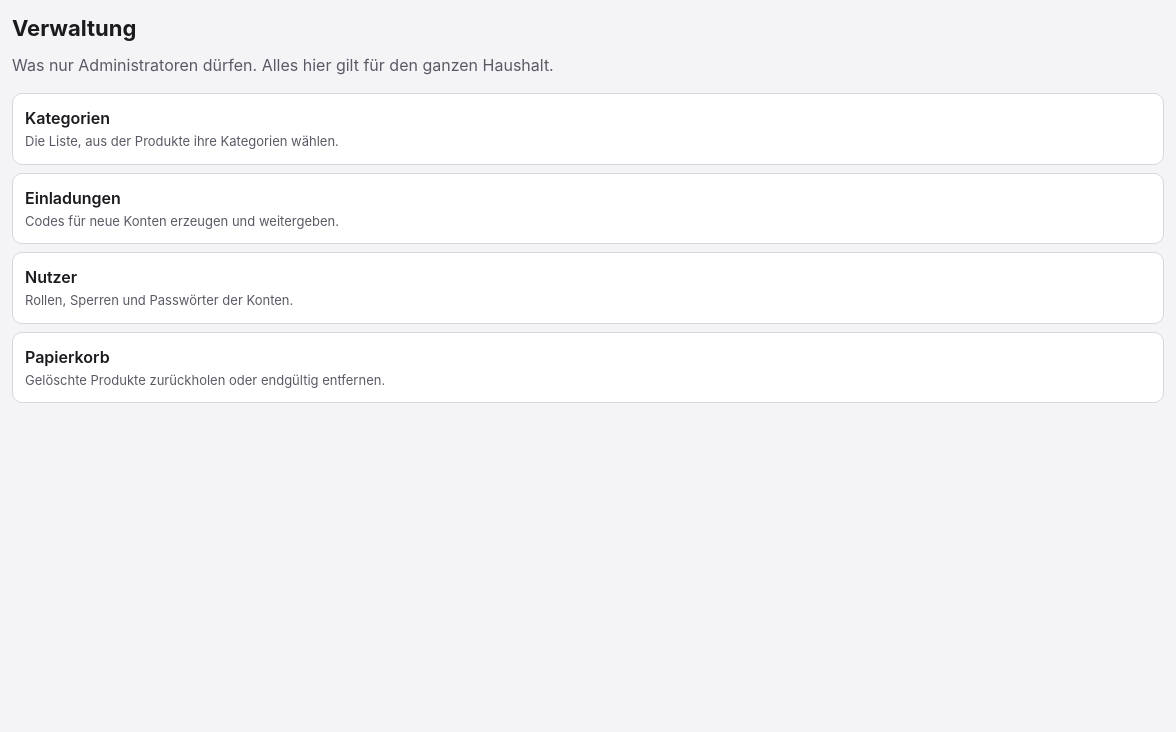
the administration › leads from the overview to each screen and back
Expected: the heading "Verwaltung" is shown, [12,15,136,41]
Expected: the link "Einladungen Codes für neue Konten erzeugen und weitergeben." is shown, [12,172,1164,244]
Click the link "Kategorien".
click(68, 118)  # box [12,93,1164,164]
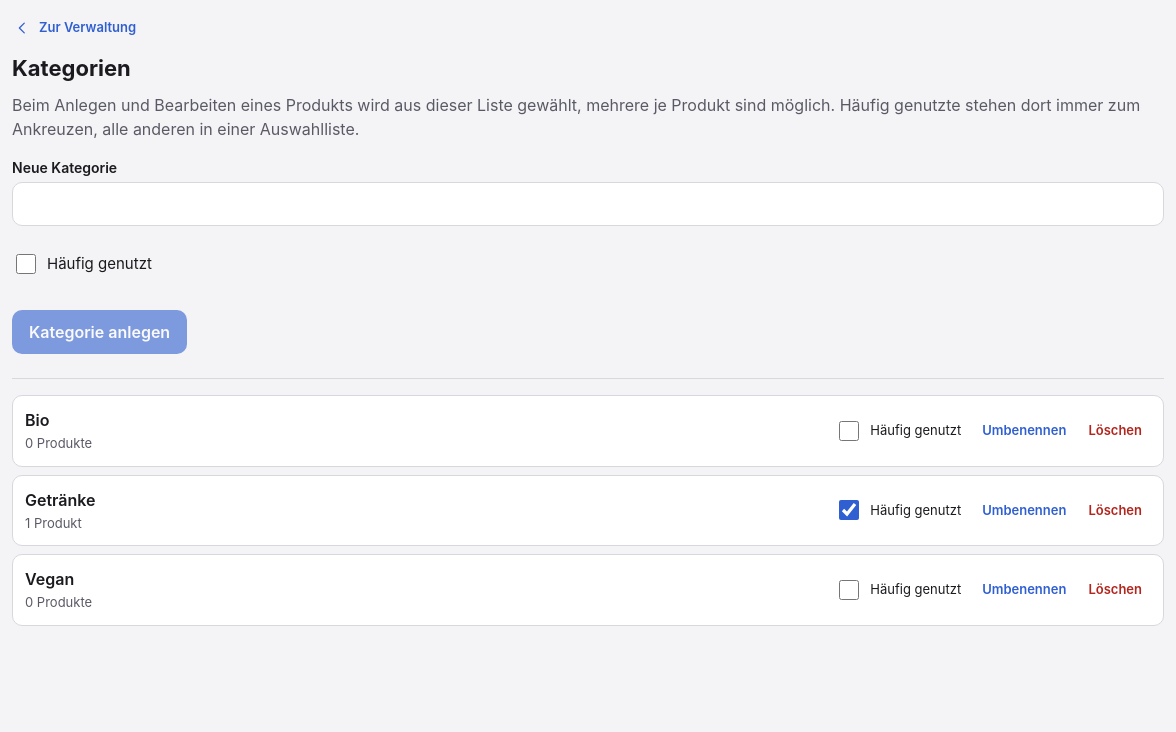
Now the heading "Kategorien" is shown, box [12,55,131,81]
Click the link "Zur Verwaltung".
click(75, 28)  # box [13,19,136,37]
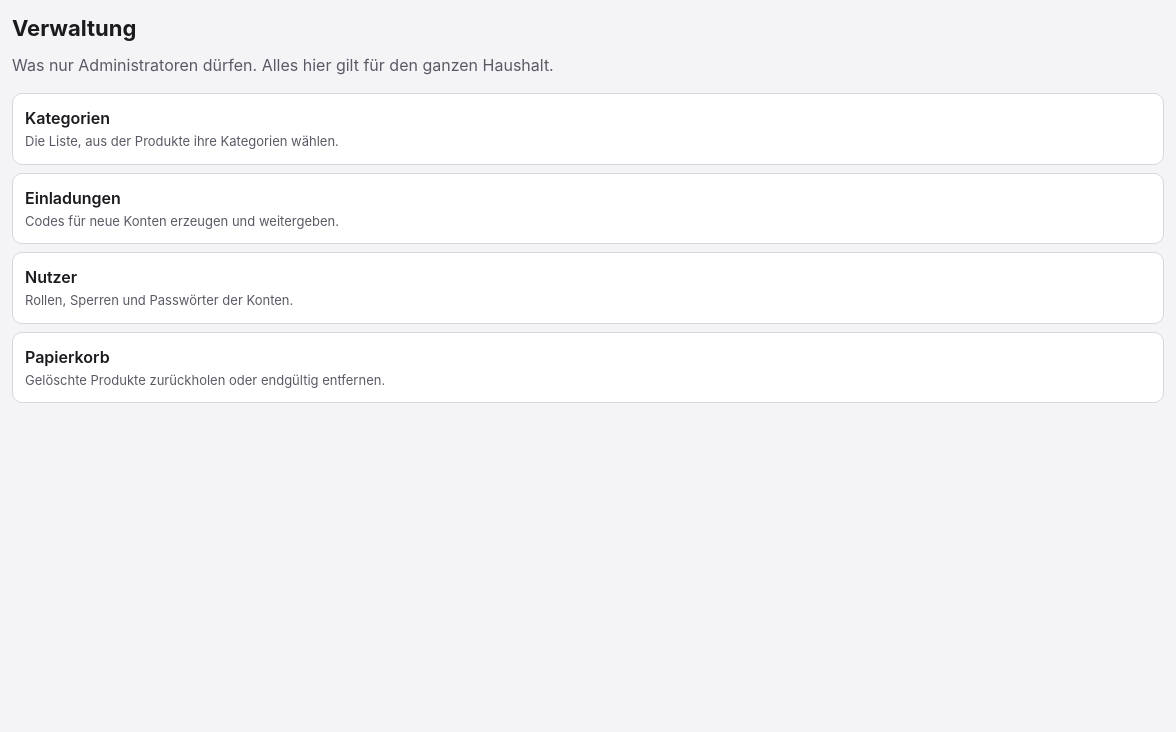
Now the heading "Verwaltung" is shown, box [12,15,136,41]
